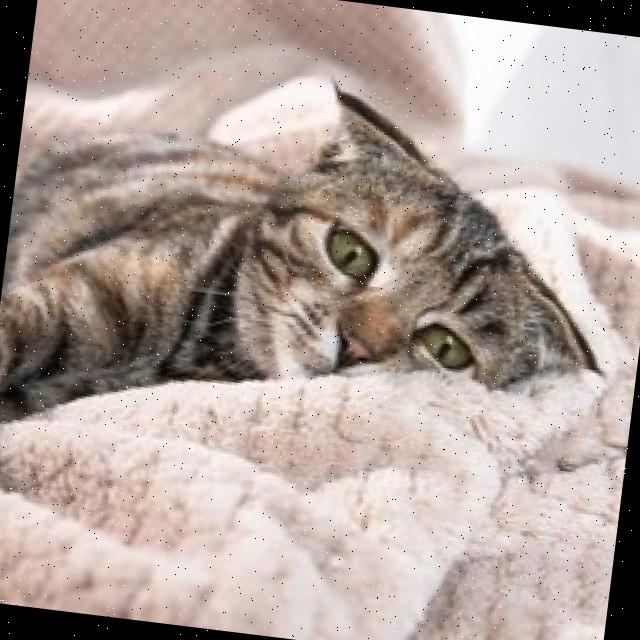Sad: (257, 183, 512, 414)
